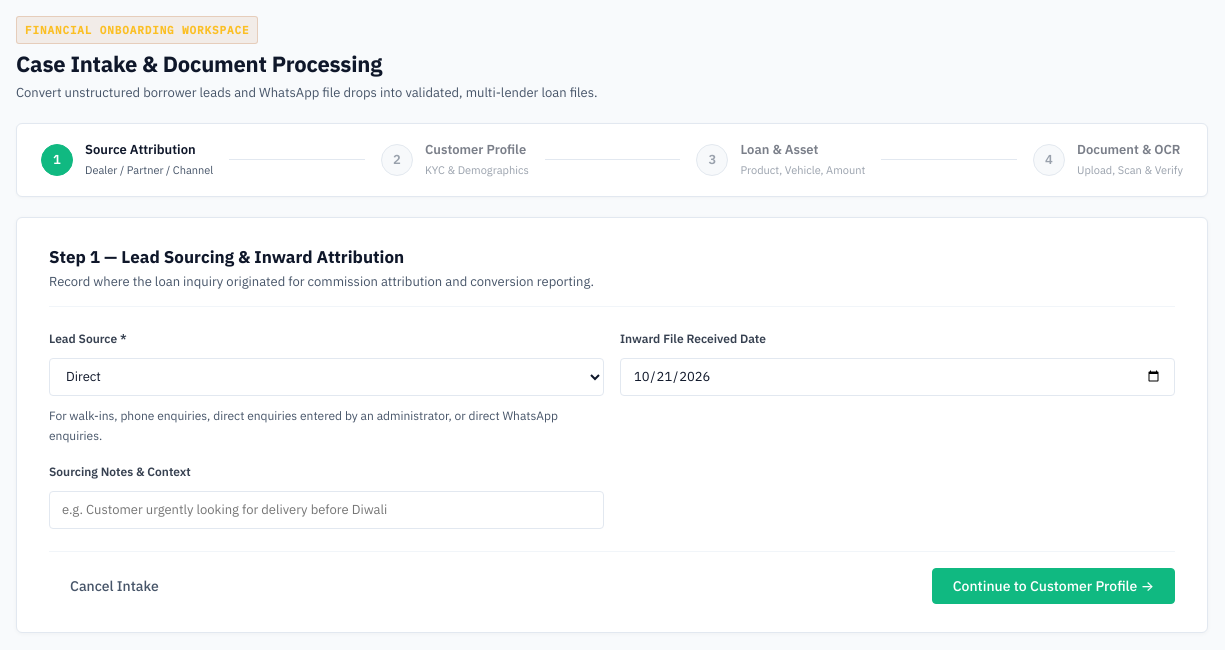
Test case: Sidebar Simplification & Quick Lead Intake Updates › 2. Quick Lead Intake Source Dropdown (CaseIntakeWorkspace) › shows an empty state and link to Referral Partners when no partners are registered
Select "Referral" in the dropdown labelled "Lead Source *" at coordinates (326, 377), box [49,358,604,396]
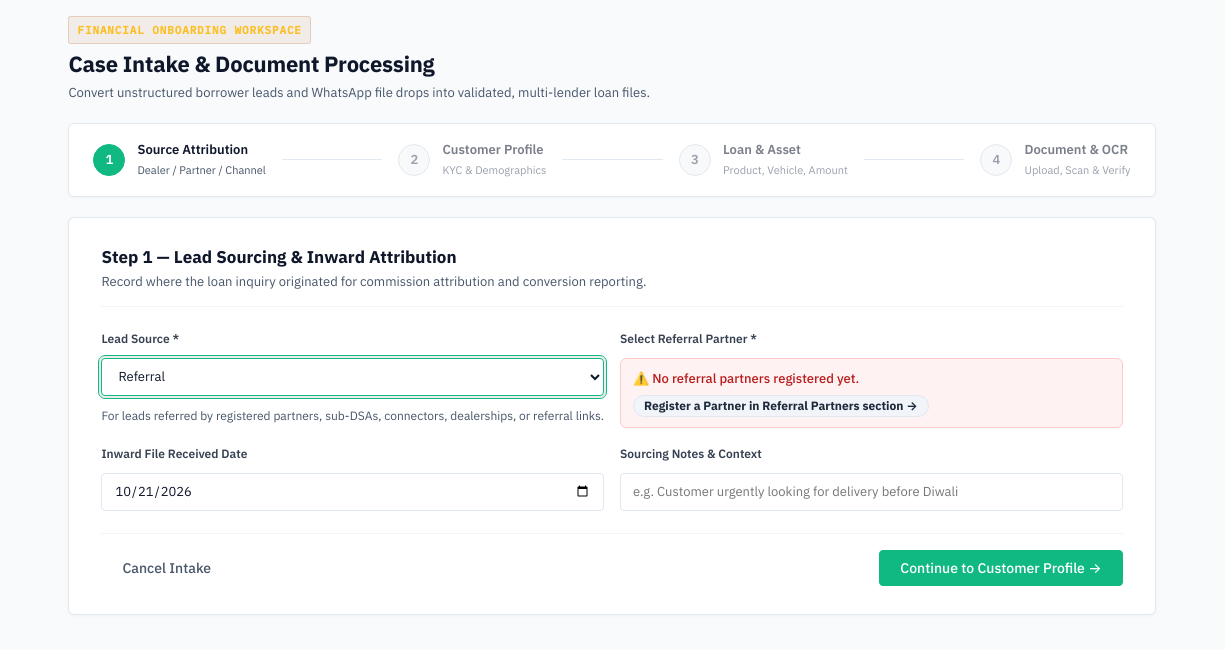
Now the text "⚠️ No referral partners registered yet." is shown, box [633,370,859,387]
Now the button "Register a Partner in Referral Partners section →" is shown, box [633,395,929,417]
